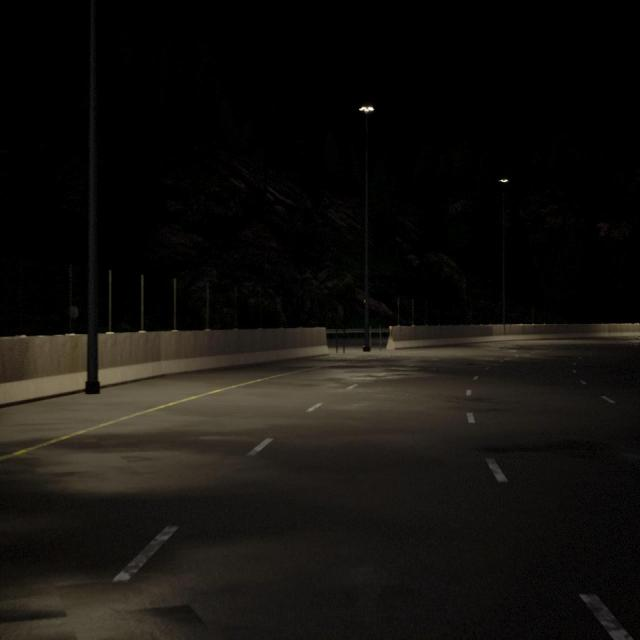Traffic_Signs: (68, 306, 78, 318)
